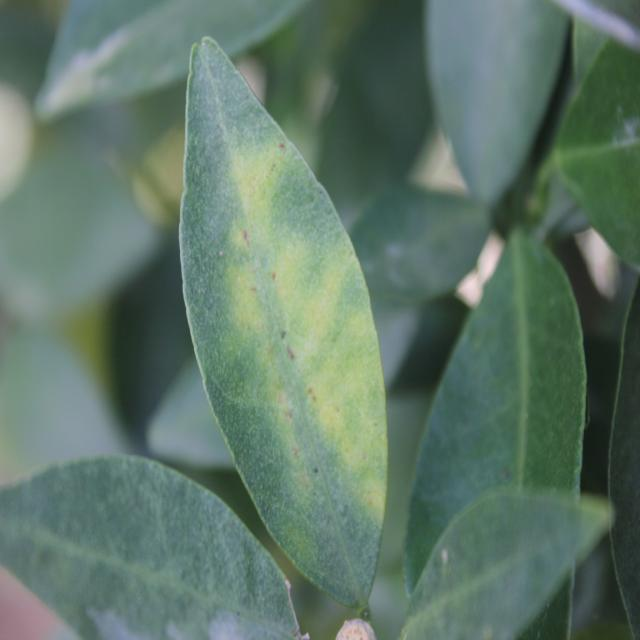blackspot: (182, 111, 385, 534)
